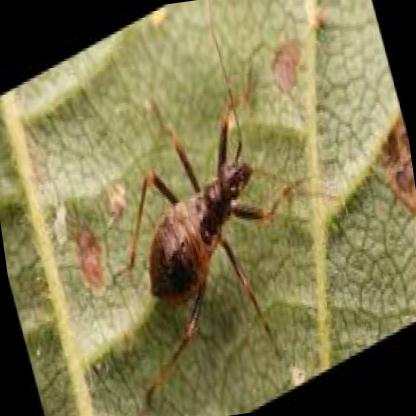uroleucon compositae: (143, 98, 269, 332)
